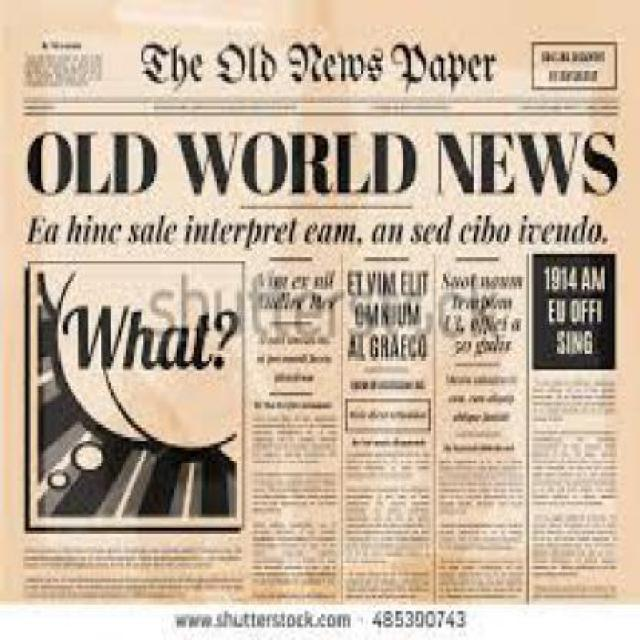PAPER: (0, 0, 638, 600)
